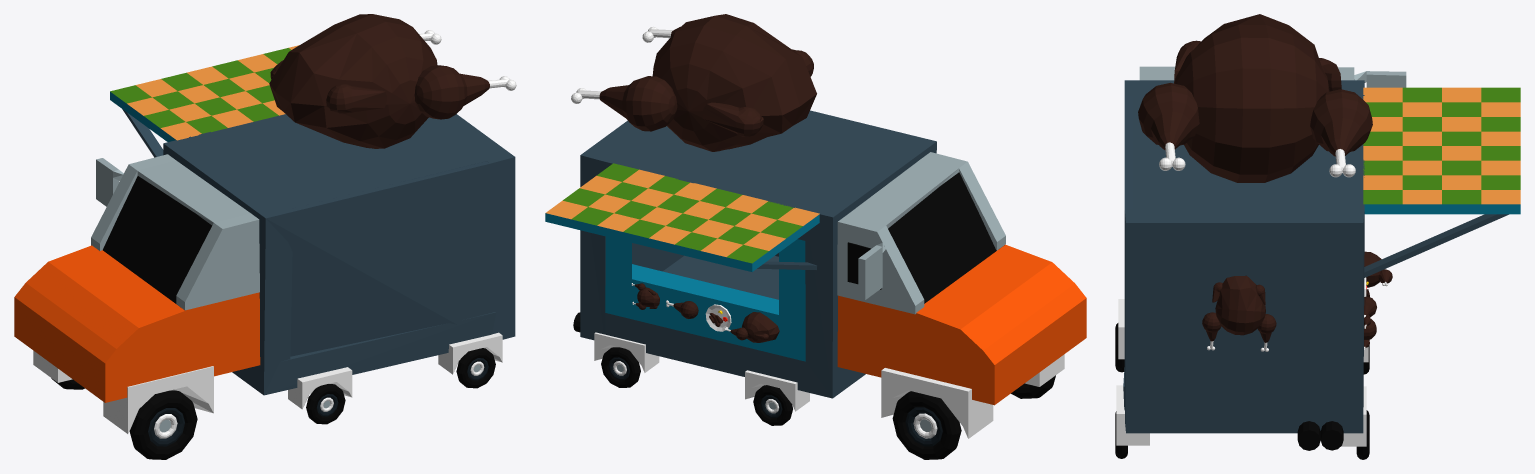
File: ChickenTruck.obj
3 views of the same model, side by side, from view 1: azimuth 30°, elevation 25°; view 2: azimuth 150°, elevation 25°; view 3: azimuth 270°, elevation 25° (orthographic). The views are drawn at different scales.
Visible parts, largest first — view 1: group934729322, group572770700, group1086031423, group483805735, group1891252473, group1709927739, group959526367, group1434556701, group944767584, group965558297, group567284715, group1825844925 (+9 smaller); view 2: group934729322, group1891252473, group1086031423, group483805735, group959526367, group1709927739, group346295656, group1434556701, group368228645, group1808298422, group567284715, group2088504716 (+12 smaller); view 3: group1434556701, group1891252473, group483805735, group1086031423, group262248674, group1841905295, group911283176, group239368340, group2078895660, group572770700, group436816632, group884443619 (+6 smaller).
Part boxes in pixels (x1,y1,x2,y2): group934729322: (14, 176, 260, 402); group572770700: (266, 161, 490, 356); group1086031423: (163, 114, 486, 245); group483805735: (269, 14, 437, 148); group1891252473: (110, 45, 299, 141); group1709927739: (183, 136, 292, 395); group959526367: (264, 312, 495, 395); group1434556701: (428, 114, 515, 339); group944767584: (176, 213, 259, 310); group965558297: (129, 390, 197, 459); group567284715: (137, 160, 250, 225); group1825844925: (103, 366, 213, 433); group934729322: (837, 172, 1086, 405); group1891252473: (545, 163, 819, 271); group1086031423: (605, 113, 933, 247); group483805735: (652, 14, 816, 151); group959526367: (605, 255, 832, 398); group1709927739: (805, 134, 936, 398); group346295656: (632, 264, 793, 354); group1434556701: (580, 120, 683, 340); group368228645: (837, 215, 924, 314); group1808298422: (892, 391, 961, 459); group567284715: (847, 158, 959, 228); group2088504716: (881, 368, 993, 438); group1434556701: (1124, 208, 1364, 433); group1891252473: (1363, 87, 1520, 214); group483805735: (1174, 14, 1329, 182); group1086031423: (1133, 80, 1364, 208); group262248674: (1202, 275, 1276, 351); group1841905295: (1310, 89, 1372, 156); group911283176: (1138, 82, 1199, 149); group239368340: (1364, 214, 1508, 277); group2078895660: (1364, 251, 1392, 350); group572770700: (1124, 96, 1132, 208); group436816632: (1116, 385, 1149, 445); group884443619: (1366, 71, 1406, 87).
Bounding box in the file's own units: 7.48 × 5.8 × 5.3.
